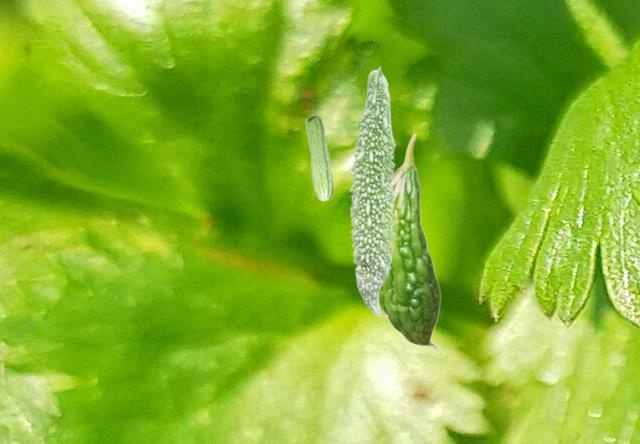ampalaya: (380, 133, 442, 351), (348, 65, 398, 317), (304, 113, 334, 201)
